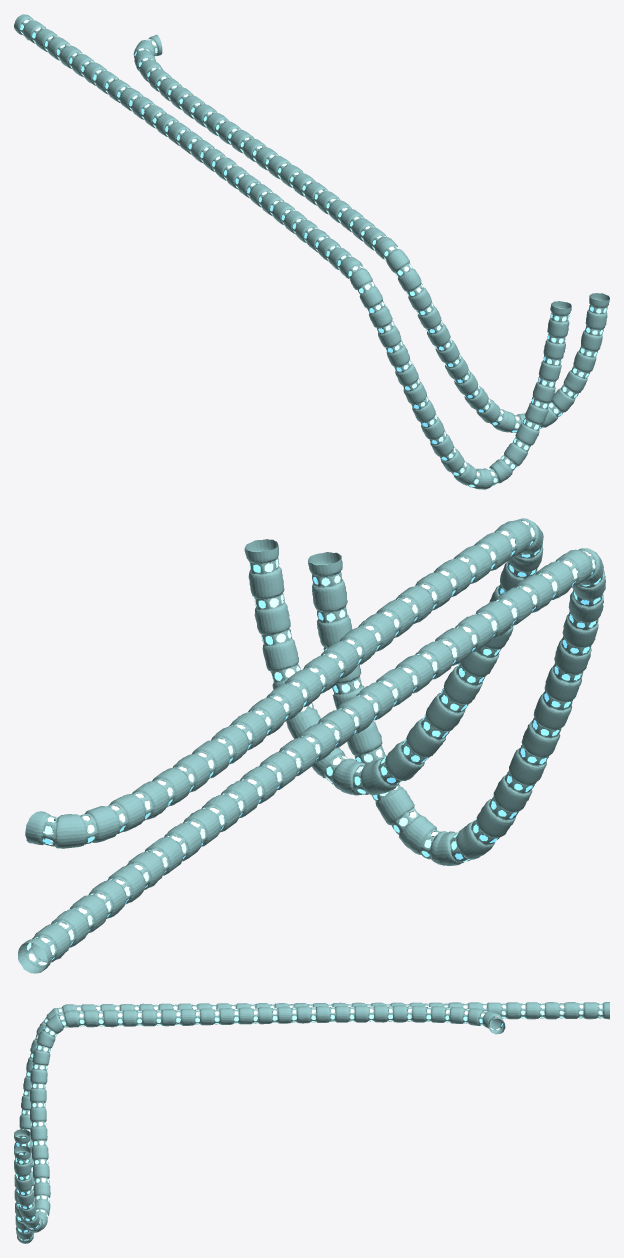
File: compressed_BigCables_1.glb
3 views of the same model, one above another, from view 1: azimuth 30°, elevation 25°; view 2: azimuth 150°, elevation 25°; view 3: azimuth 270°, elevation 25° (orthographic). The views are drawn at different scales.
Parts seen in each view (by area): view 1: PowerCableBig4, PowerCableBig1, PowerCableBig4Lights, PowerCableBig1Lights; view 2: PowerCableBig4, PowerCableBig1, PowerCableBig4Lights, PowerCableBig1Lights; view 3: PowerCableBig1, PowerCableBig4, PowerCableBig1Lights, PowerCableBig4Lights.
Part boxes in pixels (x1,y1,x2,y2): PowerCableBig4: [14, 14, 571, 489]; PowerCableBig1: [133, 34, 609, 432]; PowerCableBig4Lights: [20, 19, 568, 486]; PowerCableBig1Lights: [134, 39, 606, 432]; PowerCableBig4: [18, 548, 605, 973]; PowerCableBig1: [25, 518, 543, 848]; PowerCableBig4Lights: [27, 551, 602, 965]; PowerCableBig1Lights: [42, 521, 539, 844]; PowerCableBig1: [14, 1005, 505, 1232]; PowerCableBig4: [14, 1002, 609, 1243]; PowerCableBig1Lights: [15, 1006, 503, 1229]; PowerCableBig4Lights: [16, 1003, 602, 1240].
Size of the model in its own units: 3.09 by 3.13 by 8.21.
